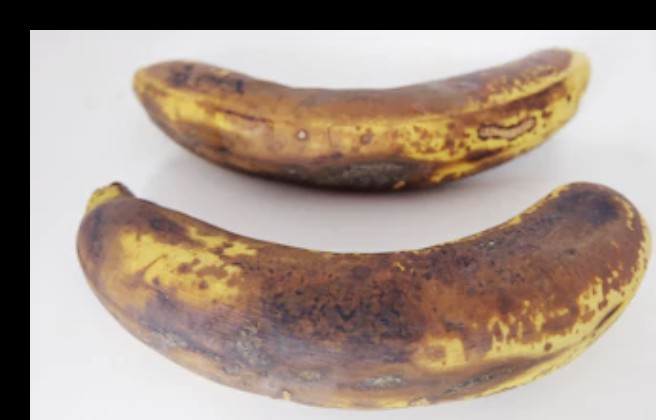rotten_banana: (76, 180, 652, 411), (133, 48, 591, 195)
